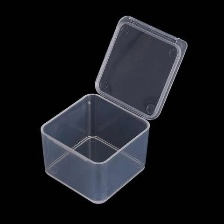plastic_box: (35, 10, 193, 211)
